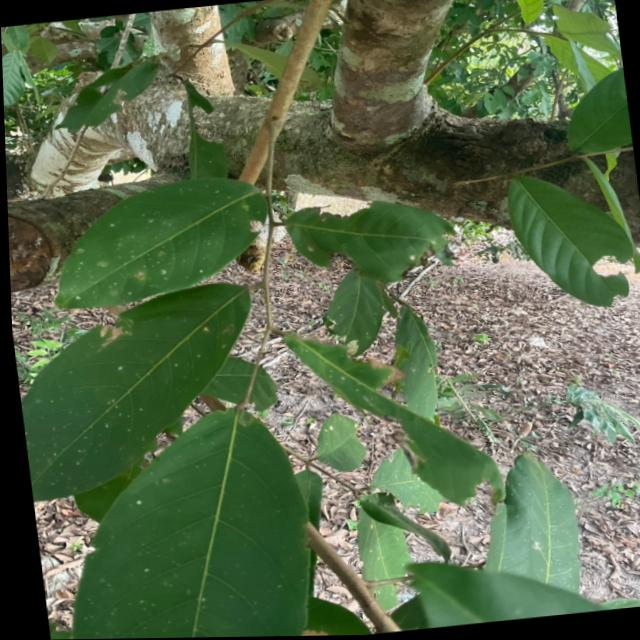Algal Leaf Spot: (8, 276, 294, 492), (63, 214, 254, 301)
